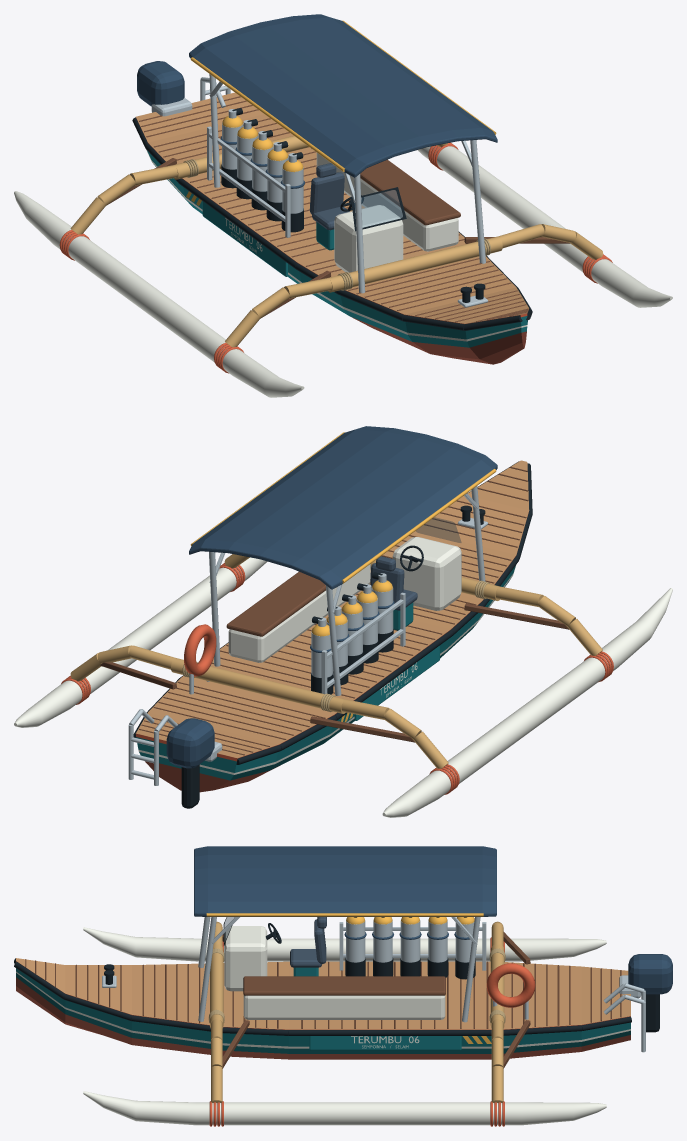
The picture shows the model from 3 angles, top to bottom: view 1: azimuth 30°, elevation 25°; view 2: azimuth 150°, elevation 25°; view 3: azimuth 270°, elevation 25°; orthographic projection. The views are drawn at different scales.
Parts seen in each view (by area): view 1: Semporna Reef Outrigger; view 2: Semporna Reef Outrigger; view 3: Semporna Reef Outrigger.
Boxes of the visible parts, bbox=[...] form: Semporna Reef Outrigger: bbox=[14, 14, 672, 397]; Semporna Reef Outrigger: bbox=[14, 426, 672, 817]; Semporna Reef Outrigger: bbox=[14, 846, 672, 1126].
Size of the model in its own units: 5.27 by 2.57 by 8.4.
